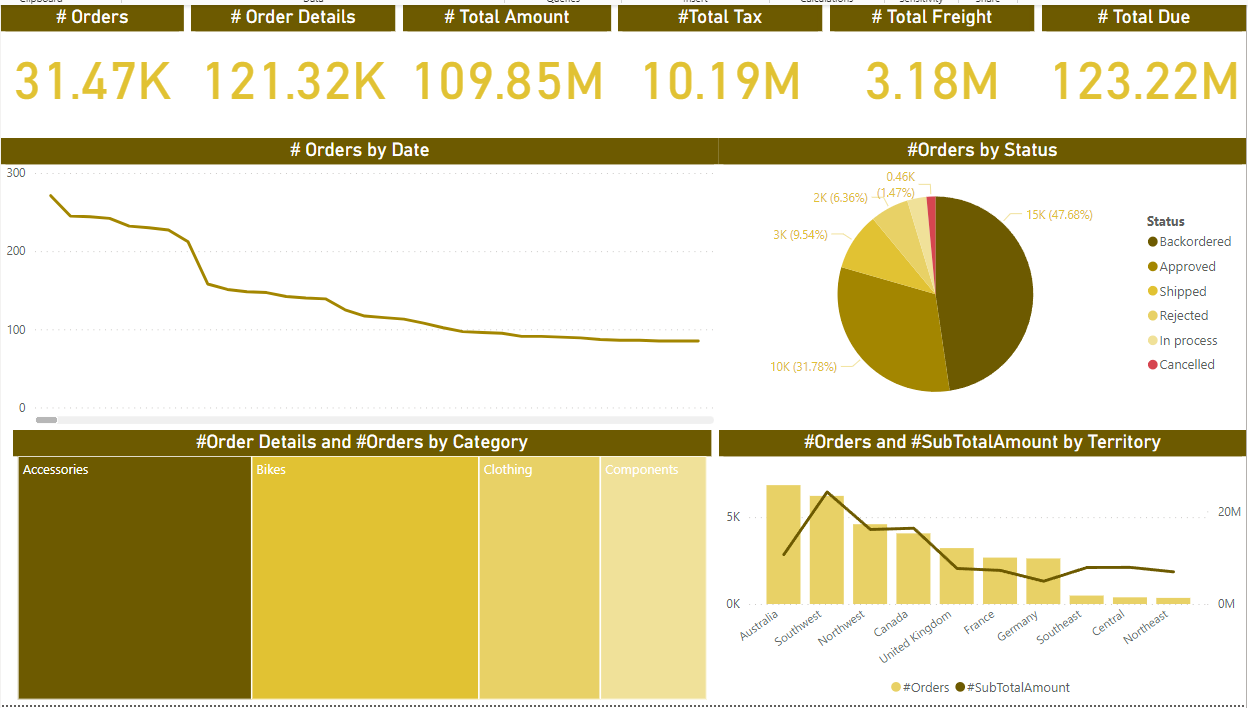

What the dashboard file says about the page in this screenshot:
{"tool":"powerbi","page":{"name":"Page 1","canvas":[1280,720],"ordinal":0},"visuals":[{"type":"card","title":"# Order Details","fields":{"Values":["Dax Measures.#Order Details"]},"box":[195.4,0,210.4,120],"z":0},{"type":"card","title":"# Orders","fields":{"Values":["Dax Measures.#Orders"]},"box":[0,0,187.8,120],"z":1000},{"type":"card","title":"# Total Amount","fields":{"Values":["Dax Measures.#SubTotalAmount"]},"box":[413.3,0,213.9,120],"z":2000},{"type":"card","title":"#Total Tax","fields":{"Values":["Dax Measures.#TotalTax"]},"box":[634.8,0,210,120],"z":3000},{"type":"card","title":"# Total Freight","fields":{"Values":["Dax Measures.#TotalFrieght"]},"box":[852.4,0,210,120],"z":4000},{"type":"card","title":"# Total Due","fields":{"Values":["Dax Measures.#TotalDue"]},"box":[1070,0,210,120],"z":5000},{"type":"treemap","fields":{"Group":["DimProducts.Category","DimProducts.Subcategory","DimProducts.Product"],"Values":["Dax Measures.#Order Details"]},"box":[11.9,437.4,717.8,281.7],"z":6000},{"type":"pieChart","fields":{"Category":["DimStatuses.Status"],"Y":["Dax Measures.#Orders"]},"box":[738.2,137.1,541.8,299.4],"z":7000},{"type":"lineStackedColumnComboChart","fields":{"Category":["DimTerritories.Territory"],"Y":["Dax Measures.#Orders"],"Y2":["Dax Measures.#SubTotalAmount"]},"box":[738,437,542,283],"z":8000},{"type":"lineChart","title":"# Orders by Date","fields":{"Y":["Dax Measures 2.#Orders 2"],"Category":["FactOrderDetails.OrderDateKey"]},"box":[0,136.7,738.1,299.5],"z":9000}]}

Visuals, with their boxes on the page's 1280x720 design canvas (x1, y1, x2, y2). These are canvas units, not pixel positions in the 1248x708 screenshot, which may show the page scaled, cropped or inside an application window:
"# Order Details" card: bbox(195, 0, 406, 120)
"# Orders" card: bbox(0, 0, 188, 120)
"# Total Amount" card: bbox(413, 0, 627, 120)
"#Total Tax" card: bbox(635, 0, 845, 120)
"# Total Freight" card: bbox(852, 0, 1062, 120)
"# Total Due" card: bbox(1070, 0, 1280, 120)
treemap - DimProducts.Category x DimProducts.Subcategory: bbox(12, 437, 730, 719)
pieChart - DimStatuses.Status x Dax Measures.#Orders: bbox(738, 137, 1280, 436)
lineStackedColumnComboChart - DimTerritories.Territory x Dax Measures.#Orders: bbox(738, 437, 1280, 720)
"# Orders by Date" lineChart: bbox(0, 137, 738, 436)
